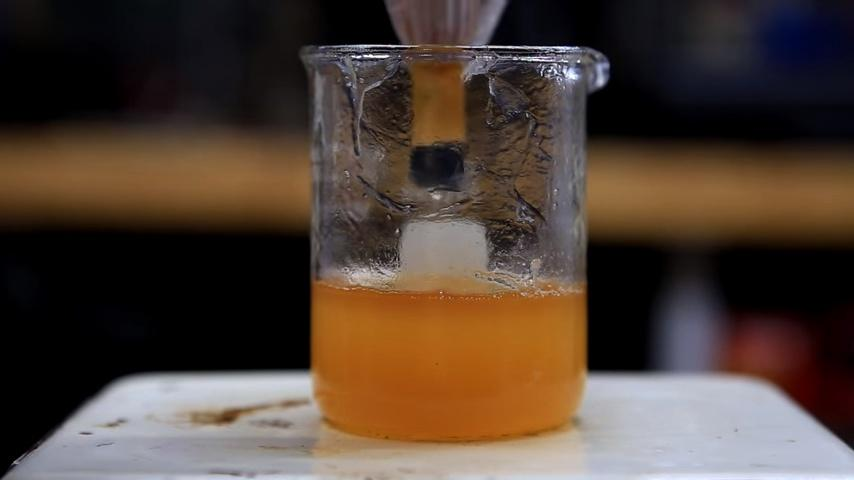Beaker: (295, 26, 615, 445)
